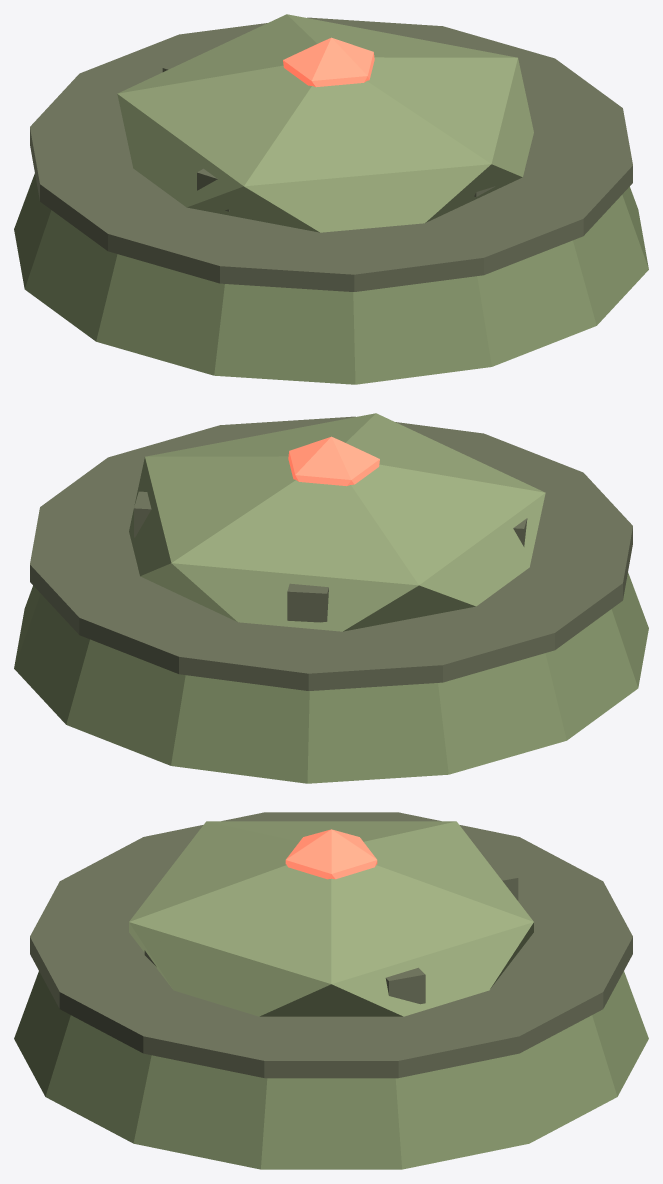
Rendered from proximity_mine.glb.
3 renders of one model, top to bottom at view 1: azimuth 30°, elevation 25°; view 2: azimuth 150°, elevation 25°; view 3: azimuth 270°, elevation 25°, orthographic.
Parts seen in each view (by area): view 1: ProximityMine; view 2: ProximityMine; view 3: ProximityMine.
Boxes of the visible parts, x1=… form: ProximityMine: x1=14, y1=14, x2=648, y2=384; ProximityMine: x1=14, y1=413, x2=648, y2=783; ProximityMine: x1=14, y1=812, x2=648, y2=1169.
Bounding box in the file's own units: 0.39 × 0.1456 × 0.4.
